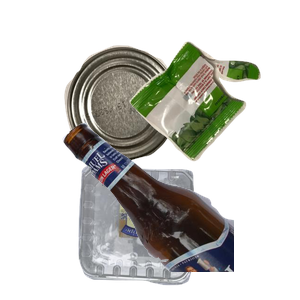glass: (60, 120, 300, 300)
metal: (62, 43, 232, 198)
plastic: (76, 162, 264, 300)
trash: (127, 39, 300, 193)
